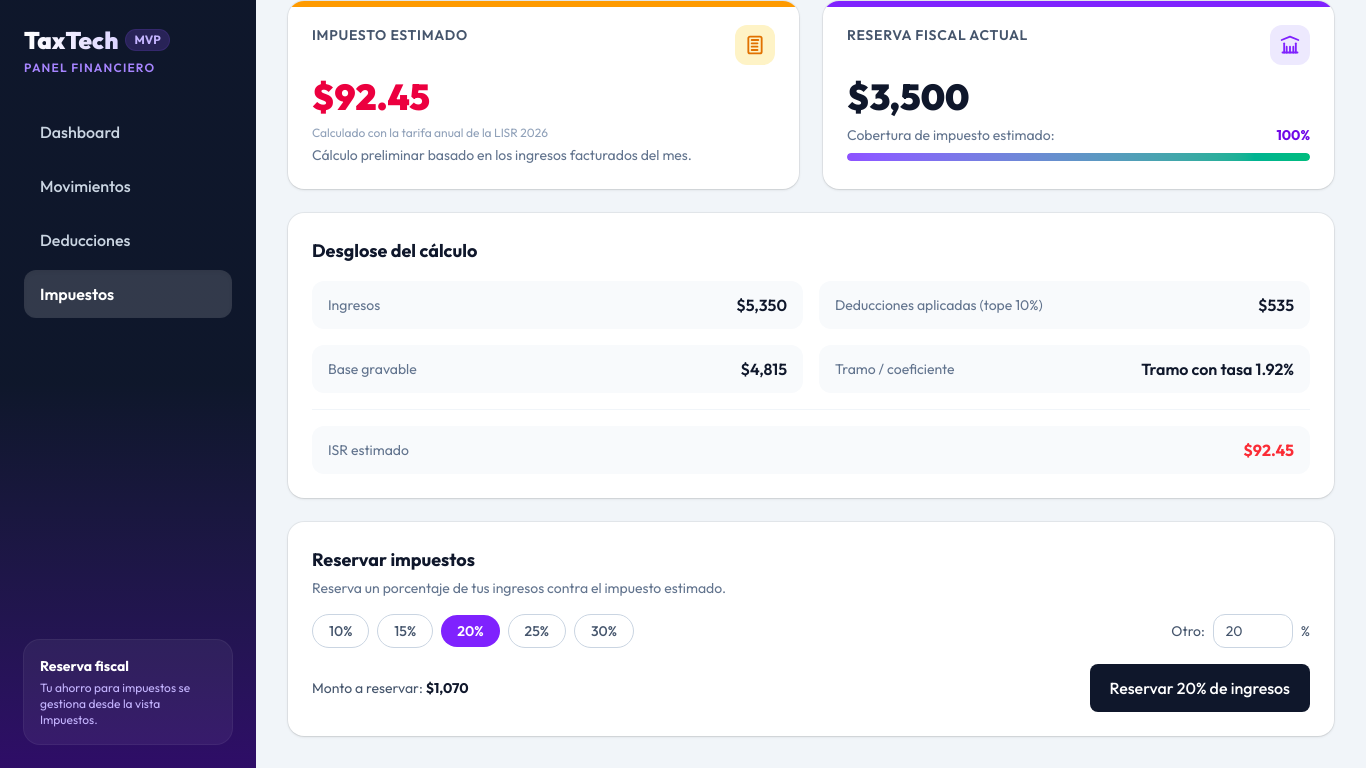
Test case: Impuestos › permite elegir otro porcentaje con la entrada numérica
(page scrolled)
Replace the text in the number field named "Porcentaje a reservar" with "30": (1253, 631) [1213,614,1293,648]
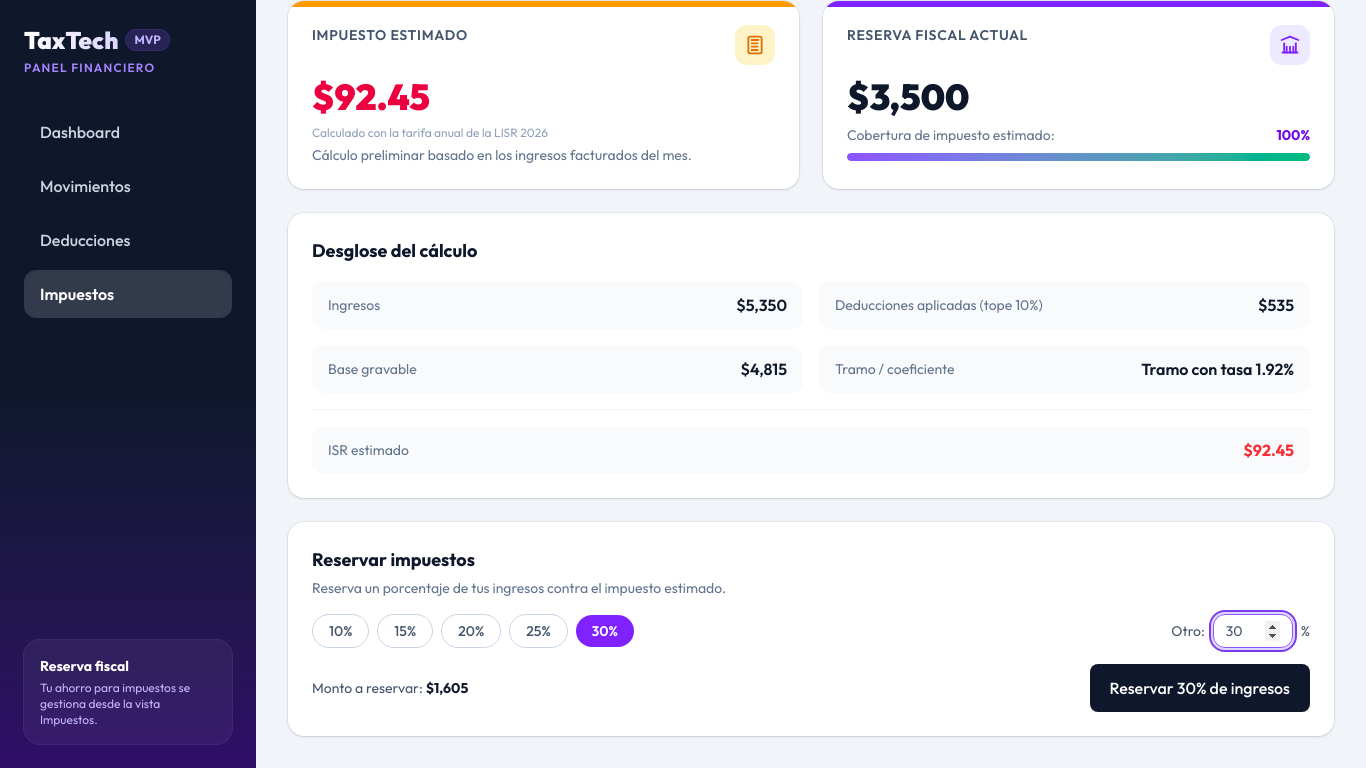
Expected: the button "Reservar 30% de ingresos" is shown, [1090,664,1310,712]
